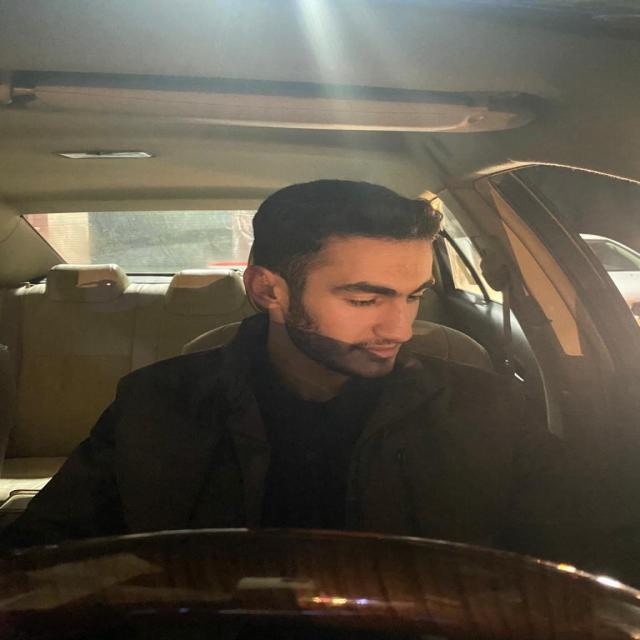person: (256, 176, 456, 390)
